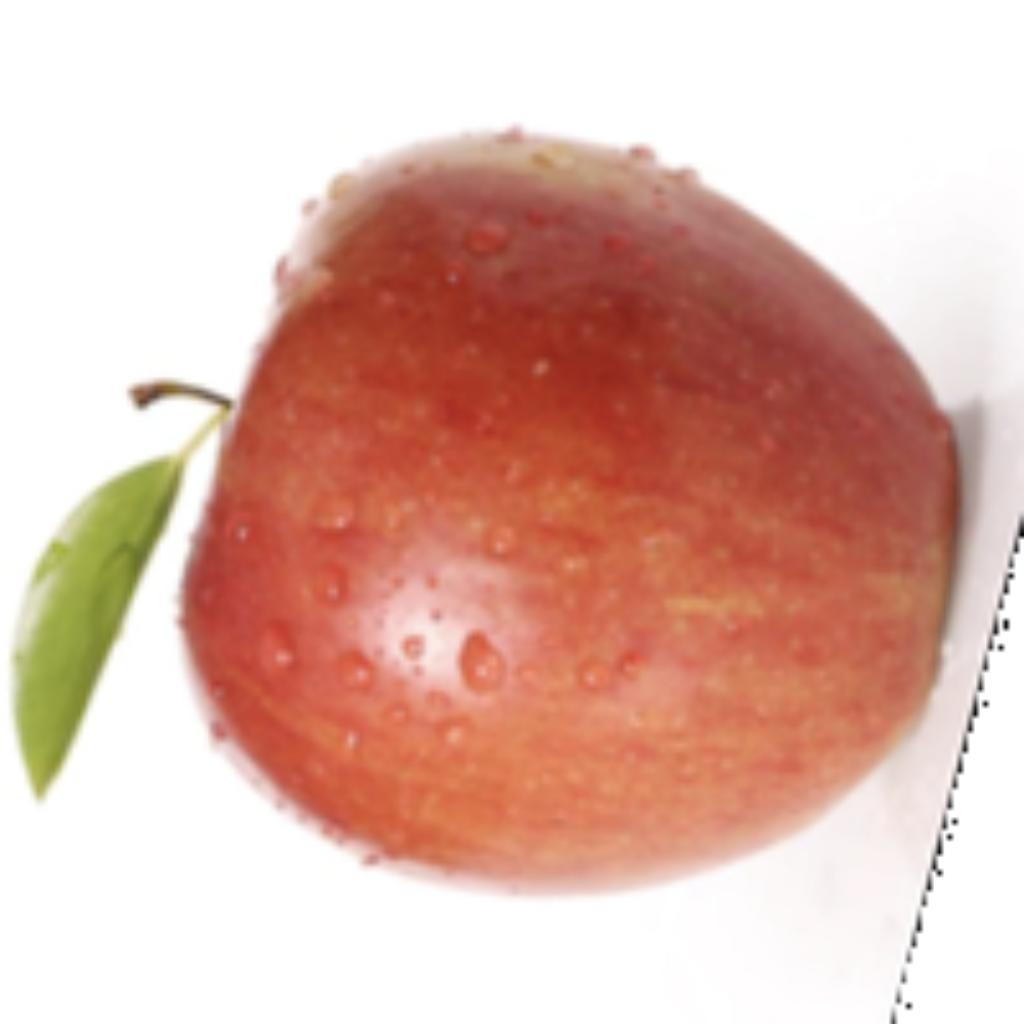apple: (5, 118, 1019, 911)
